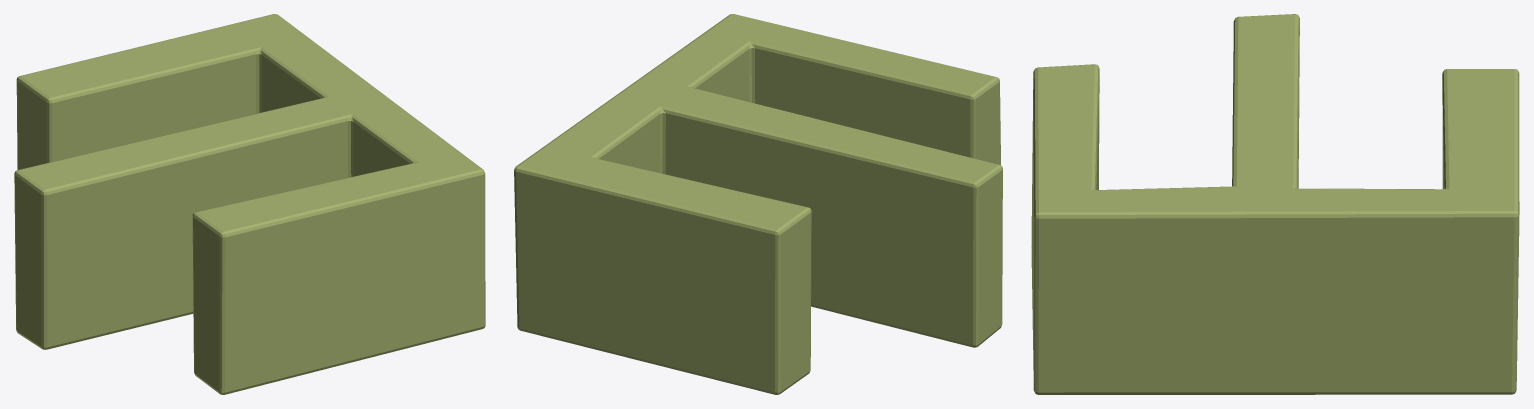
The model's file is Wall piece 2 collider.fbx.
3 renders of one model, left to right at view 1: azimuth 30°, elevation 25°; view 2: azimuth 150°, elevation 25°; view 3: azimuth 270°, elevation 25°, orthographic. The views are drawn at different scales.
Parts seen in each view (by area): view 1: wall piece 2 collider; view 2: wall piece 2 collider; view 3: wall piece 2 collider.
Part boxes in pixels (x1,y1,x2,y2): wall piece 2 collider: [14, 14, 485, 394]; wall piece 2 collider: [514, 14, 1002, 394]; wall piece 2 collider: [1031, 14, 1519, 394].
Size of the model in its own units: 992 by 1020 by 432.
